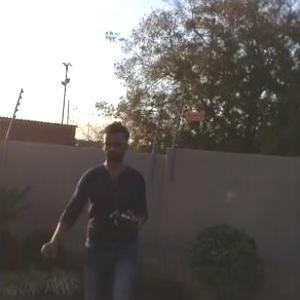follow: (32, 115, 158, 299)
